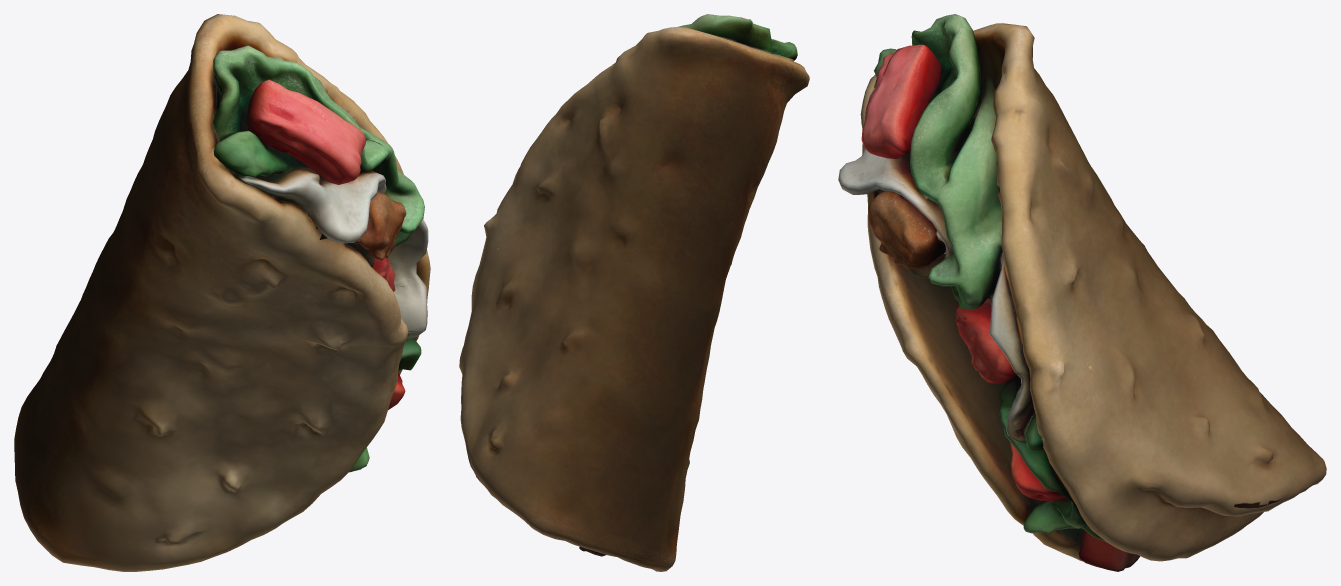
Rendered from Stack 1C - Taco.glb.
3 renders of one model, left to right at view 1: azimuth 30°, elevation 25°; view 2: azimuth 150°, elevation 25°; view 3: azimuth 270°, elevation 25°, orthographic. The views are drawn at different scales.
Visible parts, largest first — view 1: Taco part 1, Taco part 2, Taco part 7, Taco part 10, Taco part 5, Taco part 8, Taco part 12; view 2: Taco part 1, Taco part 2; view 3: Taco part 1, Taco part 2, Taco part 5, Taco part 8, Taco part 10, Taco part 7, Taco part 11, Taco part 12, Taco part 3, Taco part 4, Taco part 6.
Part boxes in pixels (left/top/right/bottom): Taco part 1: left=14, top=14, right=430, bottom=571; Taco part 2: left=212, top=45, right=390, bottom=184; Taco part 7: left=234, top=162, right=386, bottom=266; Taco part 10: left=388, top=219, right=428, bottom=338; Taco part 5: left=360, top=126, right=424, bottom=246; Taco part 8: left=352, top=191, right=406, bottom=260; Taco part 12: left=398, top=338, right=421, bottom=370; Taco part 1: left=459, top=27, right=809, bottom=571; Taco part 2: left=670, top=14, right=797, bottom=61; Taco part 1: left=860, top=23, right=1326, bottom=561; Taco part 2: left=861, top=14, right=983, bottom=205; Taco part 5: left=928, top=76, right=1002, bottom=309; Taco part 8: left=868, top=190, right=945, bottom=269; Taco part 10: left=989, top=254, right=1043, bottom=450; Taco part 7: left=838, top=88, right=953, bottom=278; Taco part 11: left=954, top=298, right=1016, bottom=383; Taco part 12: left=999, top=375, right=1087, bottom=528; Taco part 3: left=1078, top=530, right=1140, bottom=571; Taco part 4: left=1009, top=441, right=1068, bottom=501; Taco part 6: left=1023, top=493, right=1105, bottom=541.
Bounding box in the file's own units: 0.5581 × 1 × 0.8306.
Materials: 12 (12 with a texture image).
